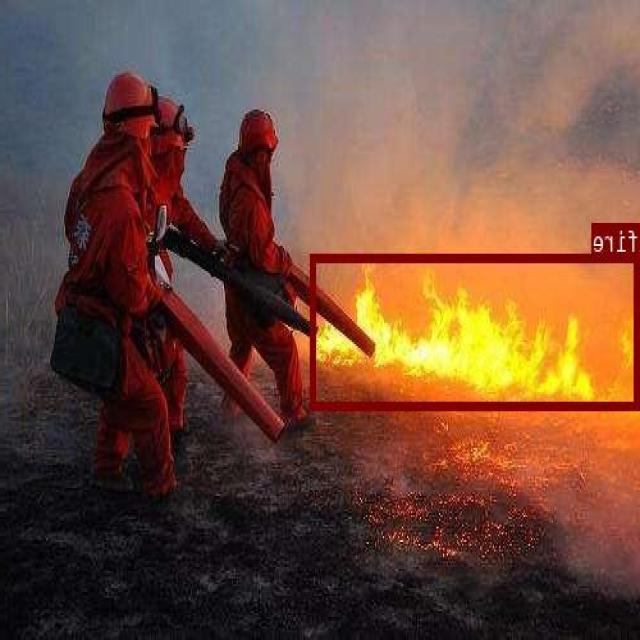fire: (311, 253, 640, 408)
